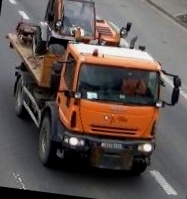truck: (0, 0, 187, 184)
